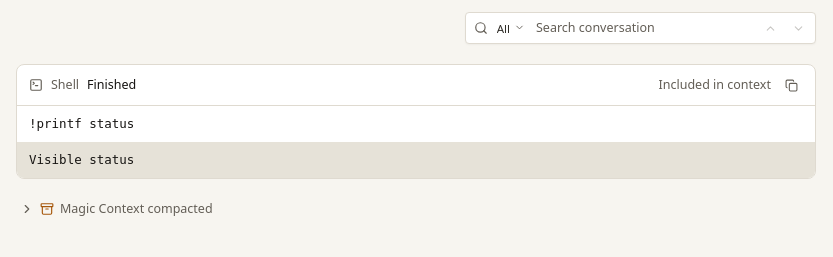
Scenario: settled transcript search › indexes displayed shell output and checkpoint text rather than their hidden control data
The image size is (833, 257).
Type "31m" into the search field labelled "Search conversation" at (644,28), box [534,18,754,38]
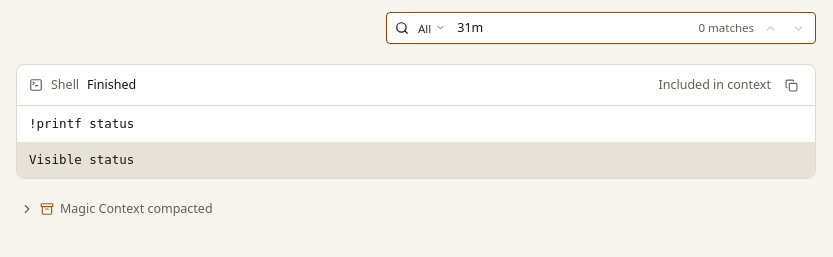
Now the element named "Search conversation" shows "0 matches", box [698,20,754,35]
Replace the text in the search field named "Search conversation" with "Magic Context compacted" at (565,28), box [455,18,675,38]
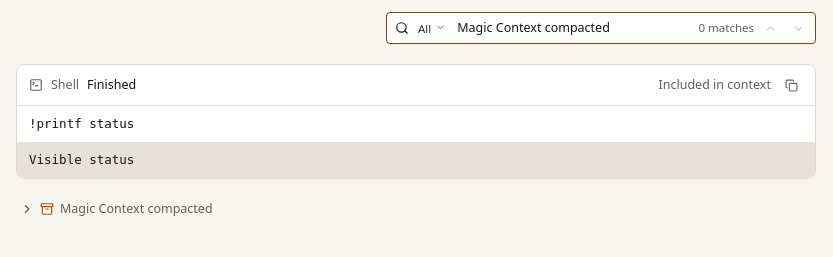
Now the element named "Search conversation" shows "0 matches", box [698,20,754,35]
Replace the text in the search field named "Search conversation" with "Visible status" at (565,28), box [455,18,675,38]
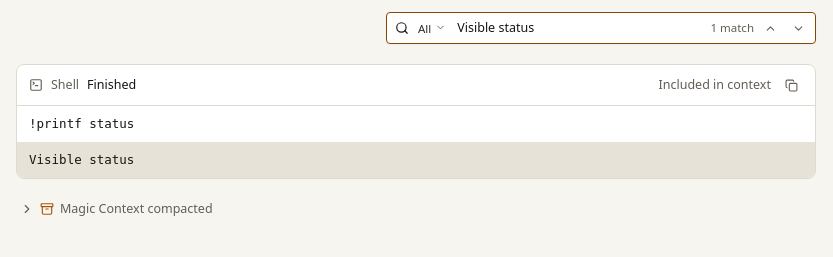
Now the element named "Search conversation" shows "1", box [710,20,754,35]
Replace the text in the search field named "Search conversation" with "retained decisions" at (565,28), box [455,18,675,38]
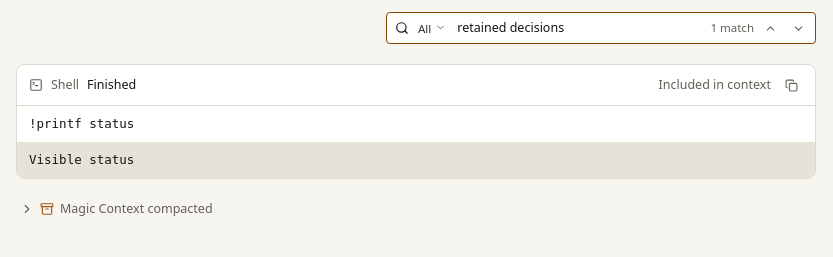
Click the button named "Next transcript match" at (798,28), box [786,16,810,40]
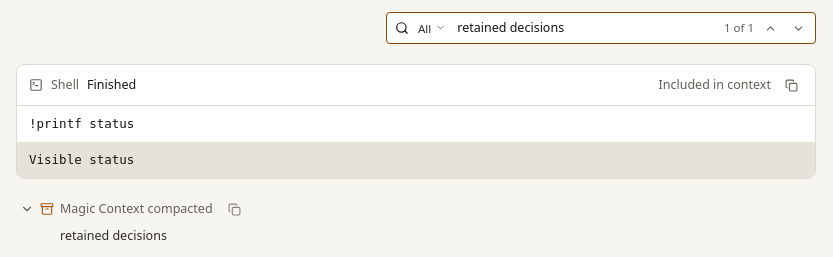
Now the button "Magic Context compacted" is expanded, box [16,195,217,223]
